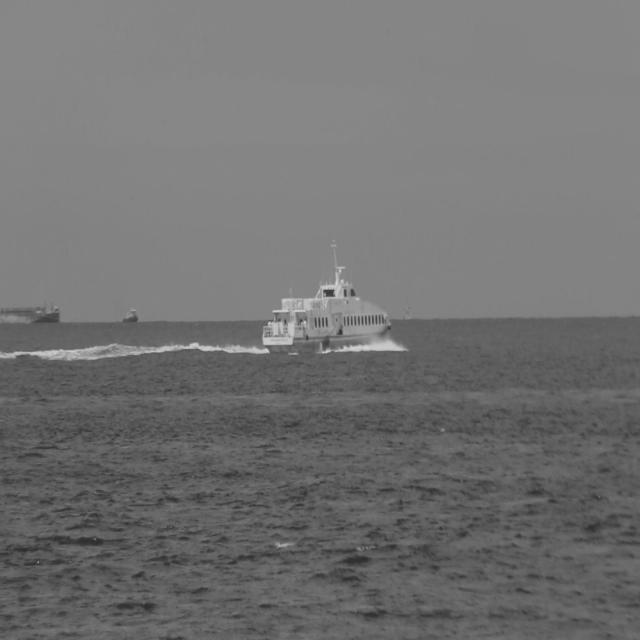ship: (263, 238, 397, 350), (1, 297, 62, 321)
